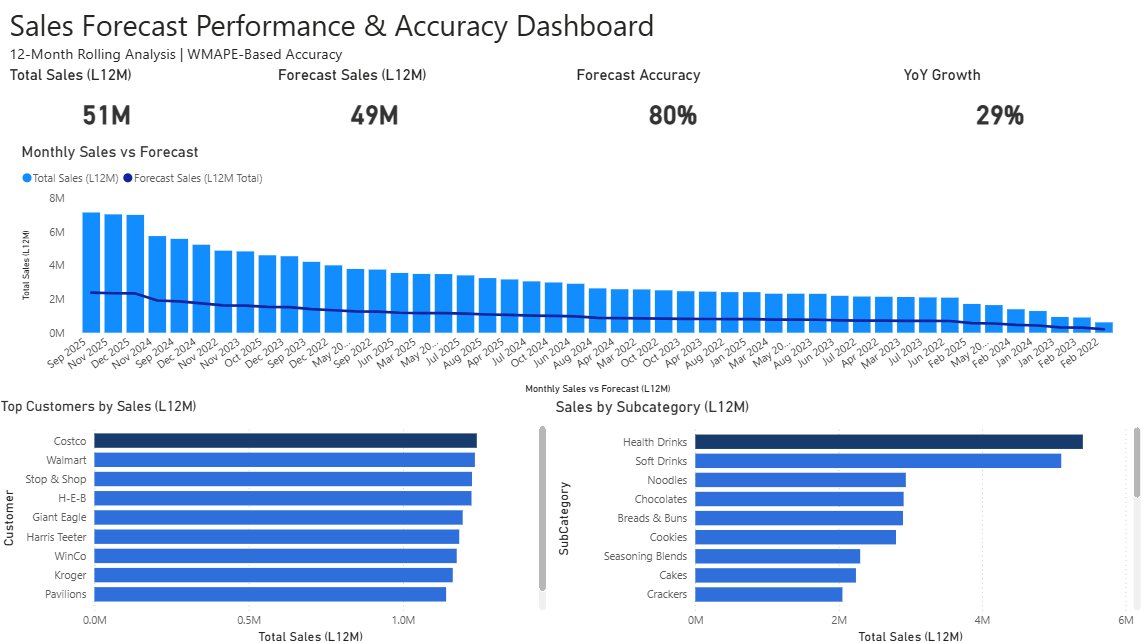

This screenshot's page, from the dashboard's own definition file:
{"tool":"powerbi","page":{"name":"Page 2","canvas":[1280,720],"ordinal":0},"visuals":[{"type":"textbox","box":[10,0,738,74],"z":0},{"type":"card","title":"Forecast Sales (L12M)","fields":{"Values":["Calender_Fact.Forecast Sales (Last 12M Total)"]},"box":[308,74,224,84],"z":1000},{"type":"card","title":"Total Sales (L12M)","fields":{"Values":["Calender_Fact.Total Sales (last 12 Months)"]},"box":[10,74,224,84],"z":2000},{"type":"card","title":"Forecast Accuracy","fields":{"Values":["Calender_Fact.Forecast Accuracy %"]},"box":[640,74,224,84],"z":3000},{"type":"card","title":"YoY Growth","fields":{"Values":["Calender_Fact.YoY %"]},"box":[1004,74,224,84],"z":4000},{"type":"barChart","title":"Top Customers by Sales (L12M)","fields":{"Category":["Calender_Fact.Customer"],"Y":["Calender_Fact.Total Sales (last 12 Months)"]},"box":[0,442,616,278],"z":5000},{"type":"lineStackedColumnComboChart","title":"Monthly Sales vs Forecast","fields":{"Y":["Calender_Fact.Total Sales (last 12 Months)"],"Y2":["Calender_Fact.Forecast Sales (Last 12M Total)"],"Category":["Calender_Fact.Month_Year"]},"box":[24,158,1232,284],"z":6000},{"type":"barChart","title":"Sales by Subcategory (L12M)","fields":{"Category":["Calender_Fact.SubCategory"],"Y":["Calender_Fact.Total Sales (last 12 Months)"]},"box":[616,442,660,278],"z":7000}]}

Visuals, with their boxes in screenshot pixels (x1, y1, x2, y2), scaled from the page's 1280x720 canvas onto the 1147x643 screenshot:
textbox: [x1=9, y1=0, x2=670, y2=66]
"Forecast Sales (L12M)" card: [x1=276, y1=66, x2=477, y2=141]
"Total Sales (L12M)" card: [x1=9, y1=66, x2=210, y2=141]
"Forecast Accuracy" card: [x1=574, y1=66, x2=774, y2=141]
"YoY Growth" card: [x1=900, y1=66, x2=1100, y2=141]
"Top Customers by Sales (L12M)" barChart: [x1=0, y1=395, x2=552, y2=642]
"Monthly Sales vs Forecast" lineStackedColumnComboChart: [x1=22, y1=141, x2=1125, y2=395]
"Sales by Subcategory (L12M)" barChart: [x1=552, y1=395, x2=1143, y2=642]
